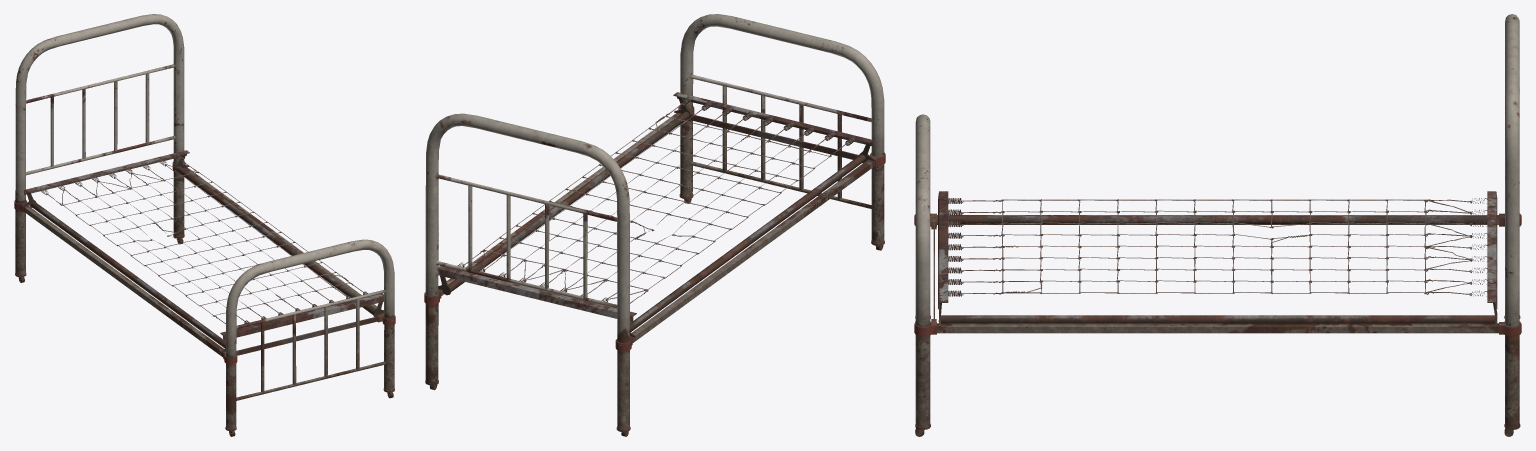
File: old_bed_frame.glb
The picture shows the model from 3 angles, left to right: view 1: azimuth 30°, elevation 25°; view 2: azimuth 150°, elevation 25°; view 3: azimuth 270°, elevation 25°; orthographic projection. The views are drawn at different scales.
Visible parts, largest first — view 1: old_bed_frame; view 2: old_bed_frame; view 3: old_bed_frame.
Boxes of the visible parts, bbox=[...] form: old_bed_frame: bbox=[14, 14, 395, 436]; old_bed_frame: bbox=[424, 14, 885, 436]; old_bed_frame: bbox=[914, 14, 1521, 436].
Bounding box in the file's own units: 0.9047 × 1.2 × 2.
1 material, 1 textured.
